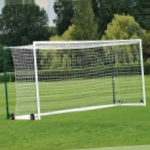goals: (10, 38, 150, 122)
